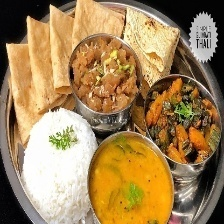roti: (2, 4, 71, 147)
